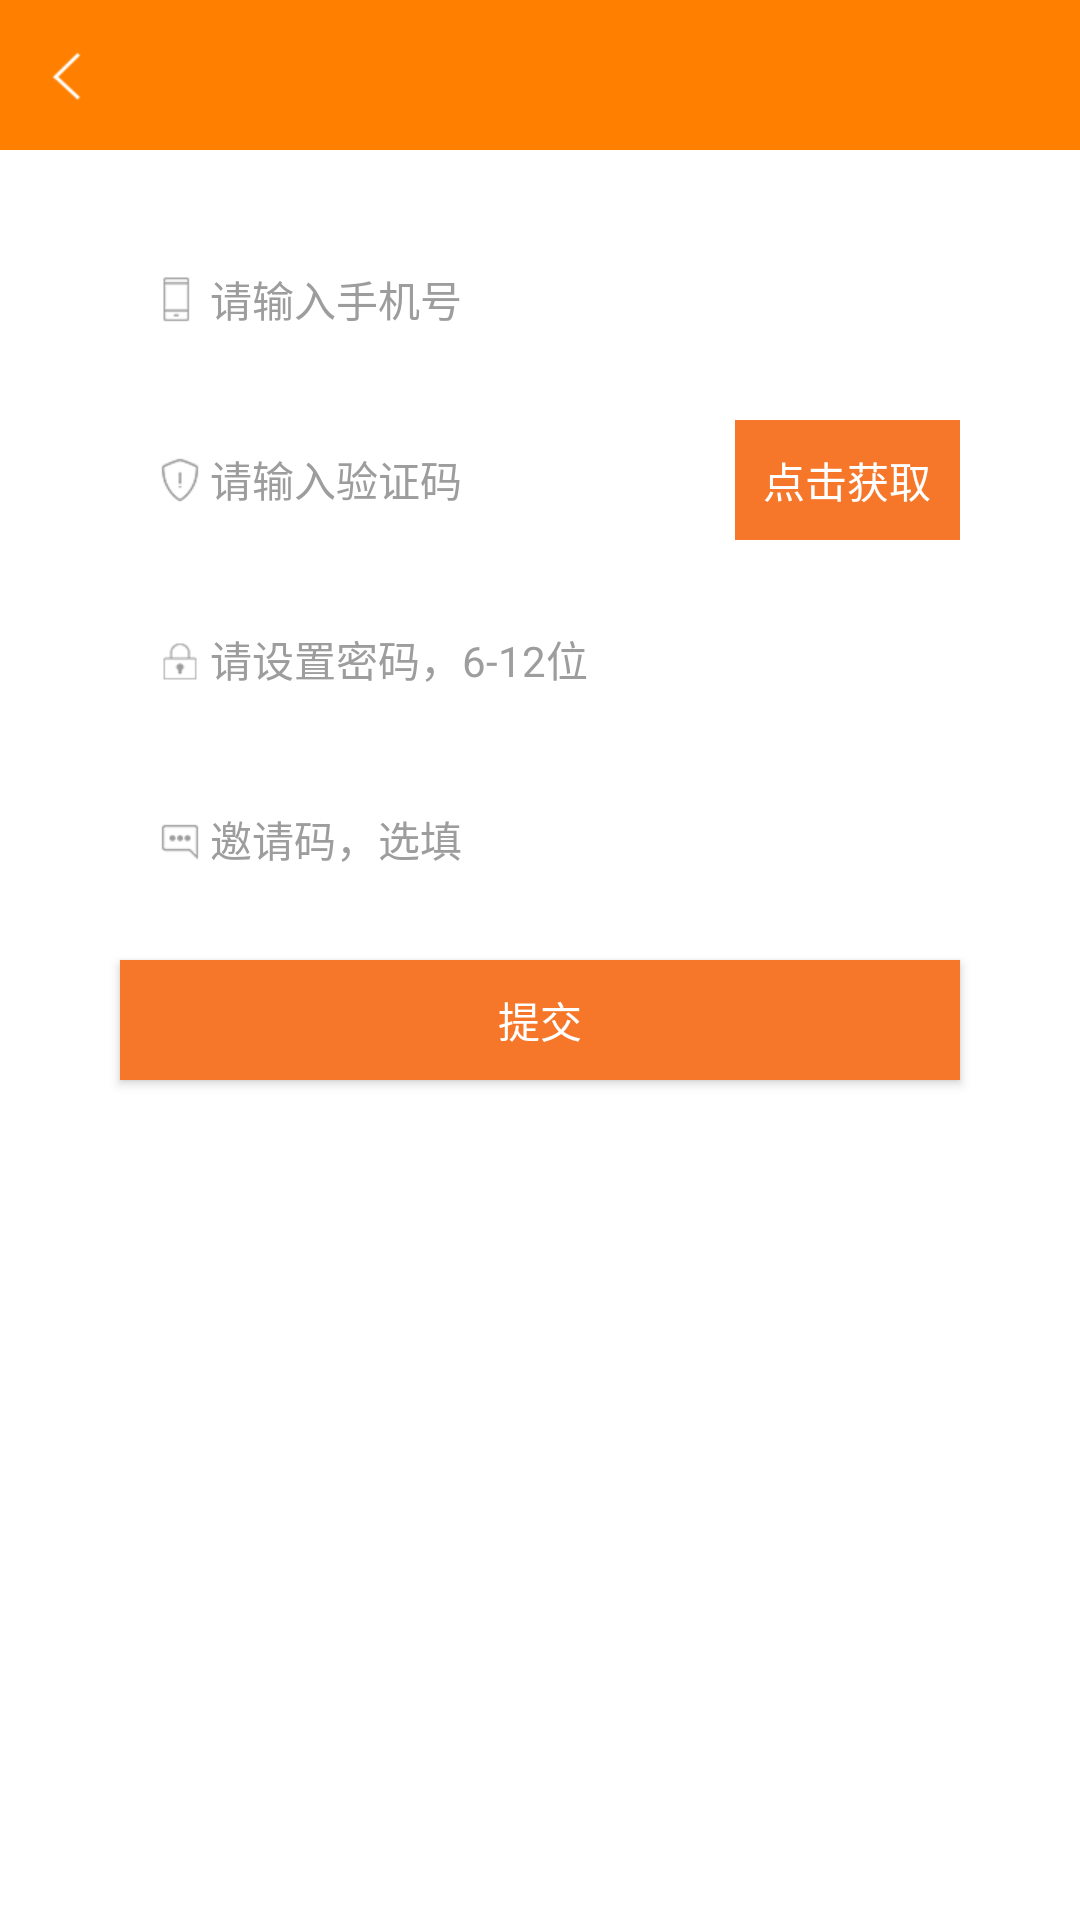

Screen size 1080*1920. Icon name, then its center in pixels as (x,y):
title back: (67,76)
